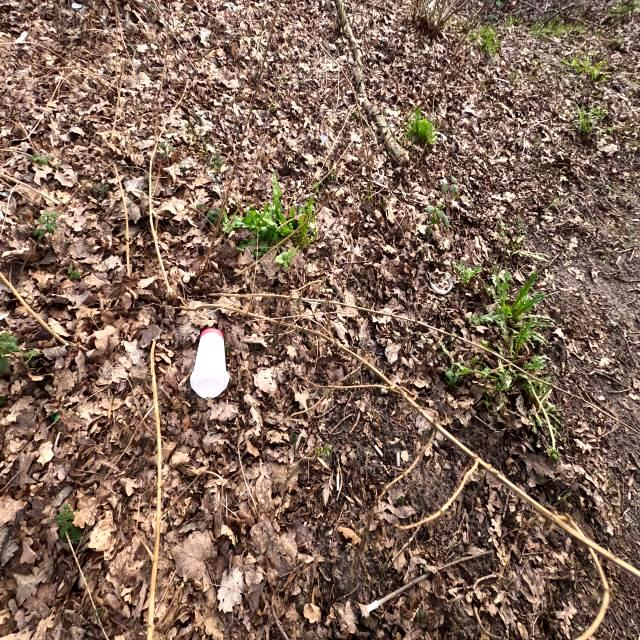Coffee Cup: (188, 325, 234, 401)
